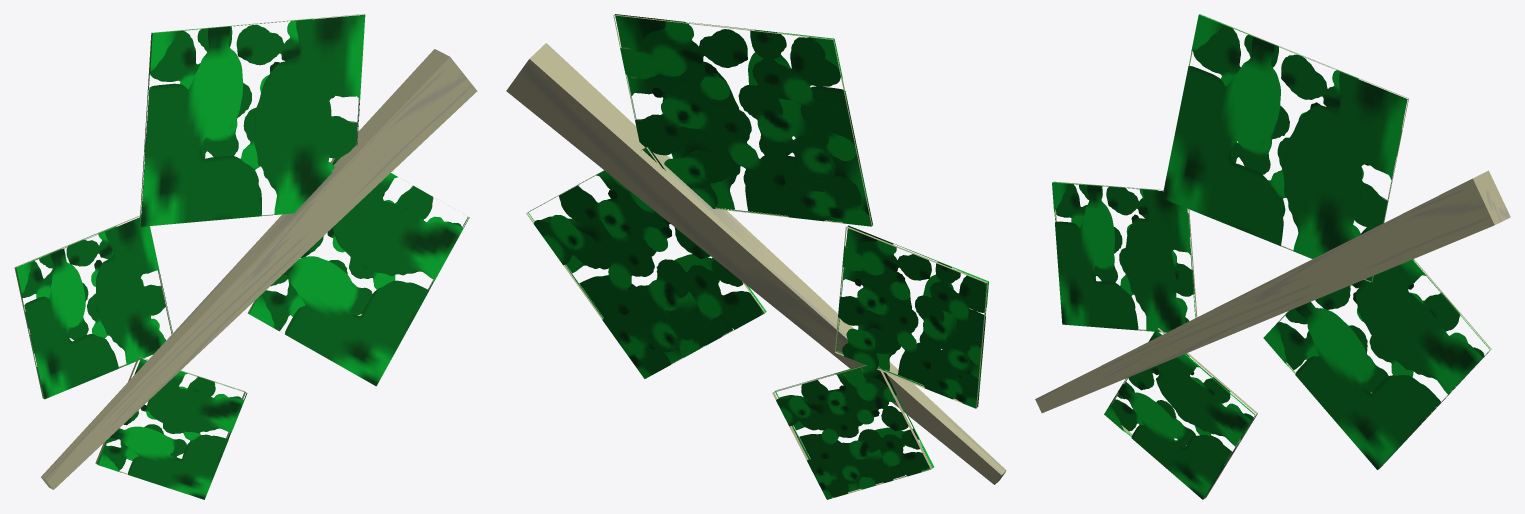
The model's file is object_birch_tree_branch_3.obj.
3 renders of one model, left to right at view 1: azimuth 30°, elevation 25°; view 2: azimuth 150°, elevation 25°; view 3: azimuth 330°, elevation 25°, orthographic. The views are drawn at different scales.
Visible parts, largest first — view 1: Cube.002, Cube, Cube.004, Cube.003, Cube.001; view 2: Cube.002, Cube, Cube.004, Cube.003, Cube.001; view 3: Cube.002, Cube.004, Cube, Cube.003, Cube.001.
Part boxes in pixels (x1,y1,x2,y2): Cube.002: [139, 14, 365, 226]; Cube: [41, 49, 477, 489]; Cube.004: [247, 157, 469, 386]; Cube.003: [14, 215, 172, 399]; Cube.001: [95, 356, 247, 499]; Cube.002: [613, 14, 872, 226]; Cube: [506, 43, 1006, 484]; Cube.004: [526, 146, 766, 378]; Cube.003: [835, 225, 988, 408]; Cube.001: [772, 364, 933, 499]; Cube.002: [1162, 14, 1408, 282]; Cube.004: [1263, 227, 1491, 469]; Cube: [1035, 170, 1510, 413]; Cube.003: [1052, 181, 1197, 332]; Cube.001: [1104, 328, 1257, 499].
Bounding box in the file's own units: 7.54 × 7.3 × 0.891.
